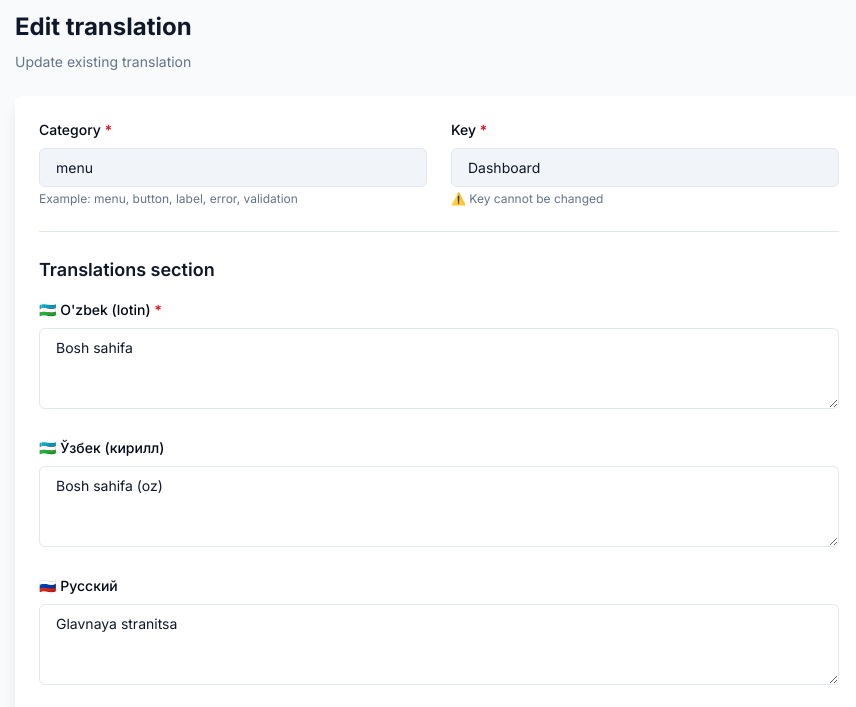
Test: TranslationFormPage › shows similar translations warning when similar text is found
Replace the text in the text box with placeholder "Primary text (uz-UZ)" with "Bosh sahifa qis" at {"x": 439, "y": 368}, box [39,328,839,409]
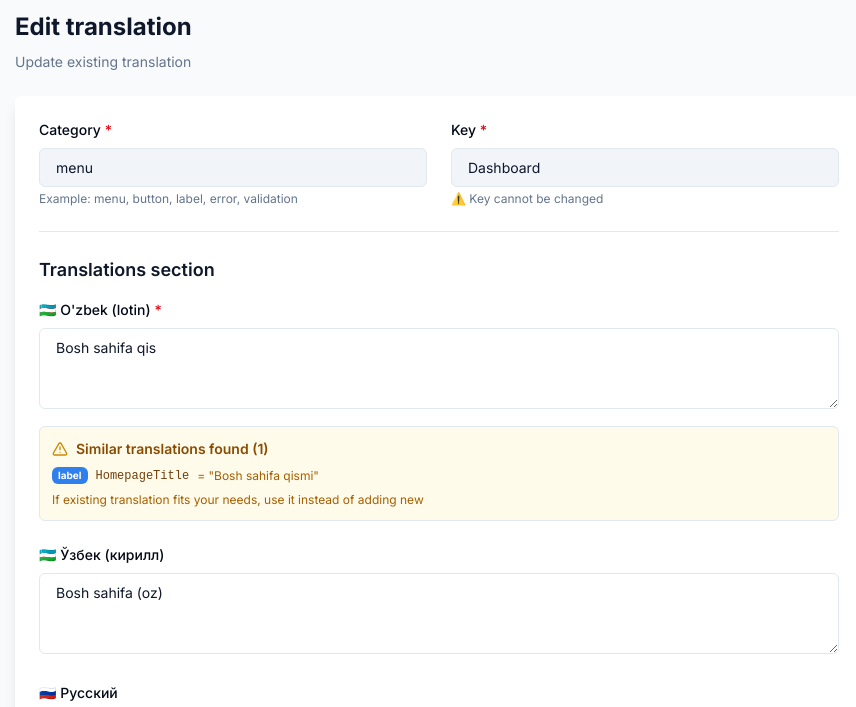
Expected: the text "Similar translations found (1)" is shown, [76,439,268,459]
Expected: the text "HomepageTitle" is shown, [96,468,189,484]
